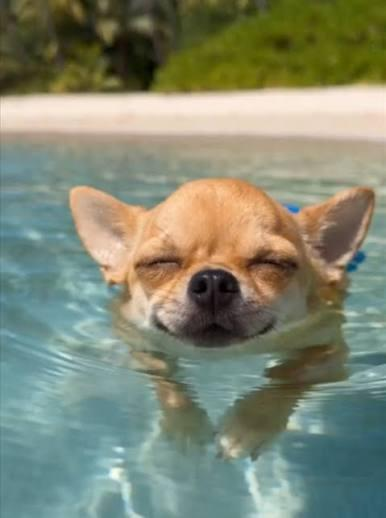adult_dog: (67, 178, 377, 461)
